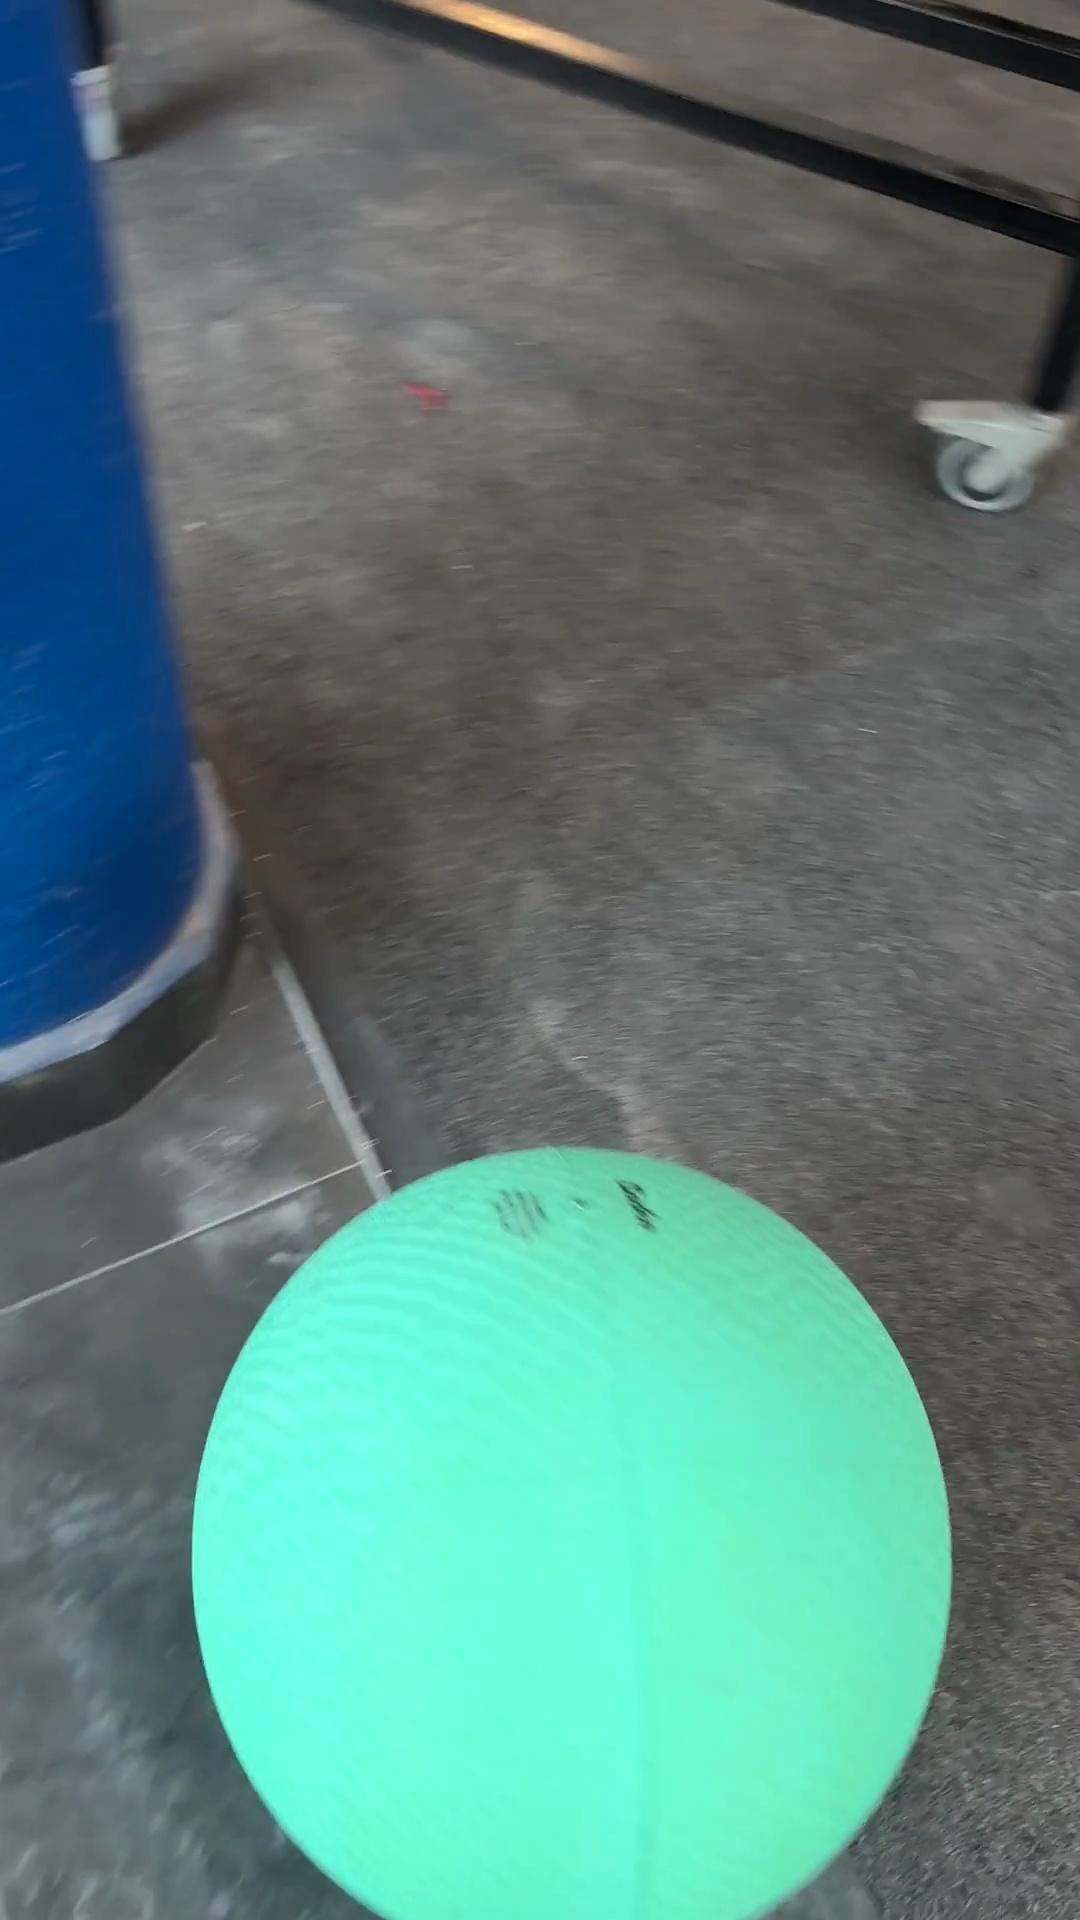ALGAE: (187, 1141, 955, 1916)
